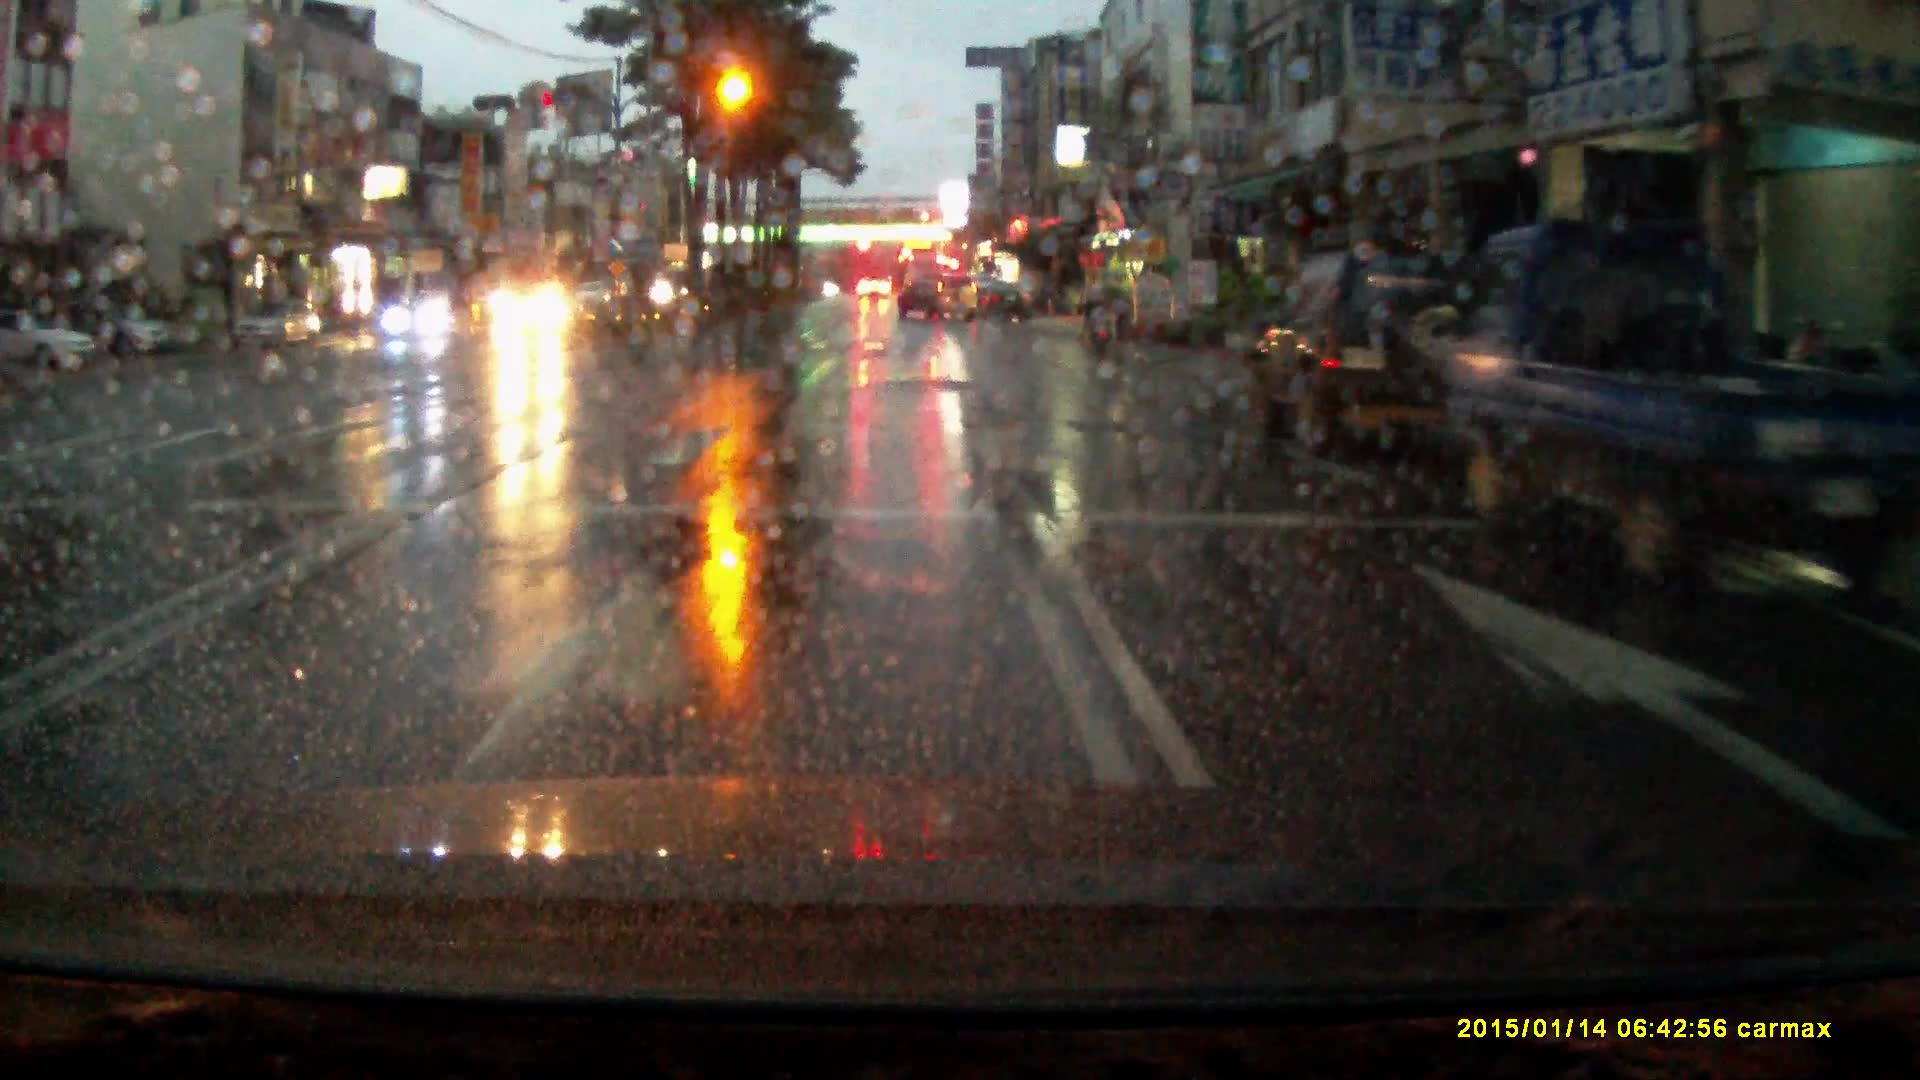vehicle: (1444, 225, 1849, 587), (1250, 252, 1485, 456), (1, 310, 105, 375), (489, 280, 583, 343), (229, 298, 322, 353), (895, 274, 978, 327), (382, 291, 462, 343), (111, 305, 179, 359), (901, 255, 942, 309), (982, 284, 1033, 324), (856, 276, 894, 305)
